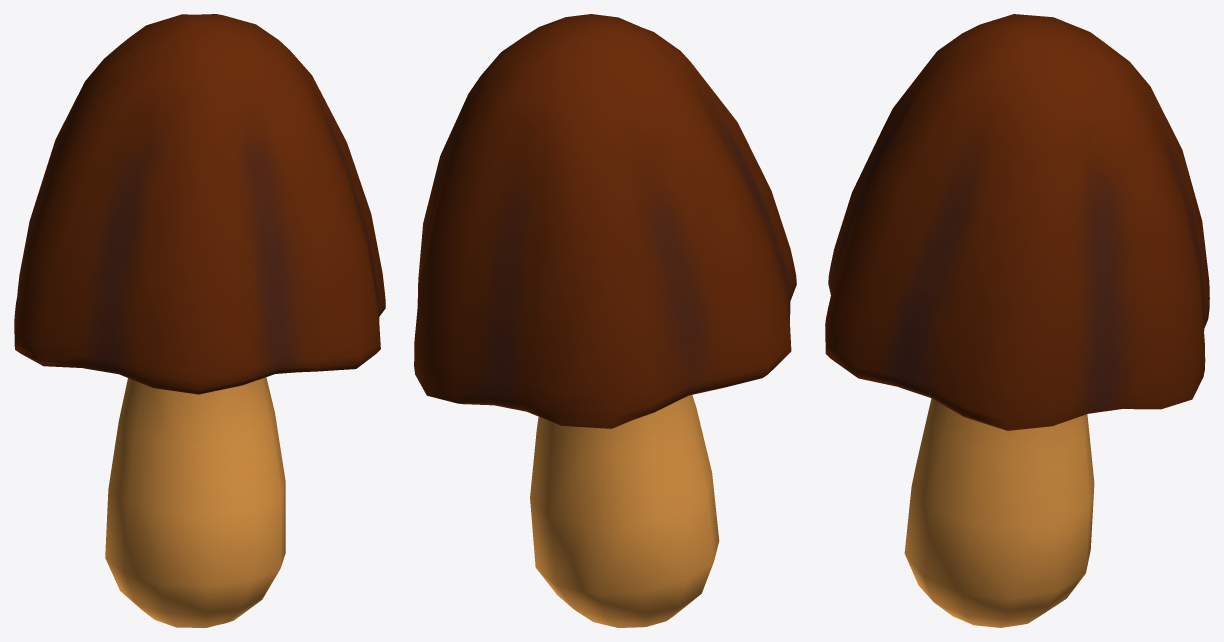
Rendered from mushroom3.glb.
The picture shows the model from 3 angles, left to right: view 1: azimuth 30°, elevation 25°; view 2: azimuth 150°, elevation 25°; view 3: azimuth 270°, elevation 25°; orthographic projection. The views are drawn at different scales.
Visible parts, largest first — view 1: MARSHROOM_UV_MARSHROOM_toB; view 2: MARSHROOM_UV_MARSHROOM_toB; view 3: MARSHROOM_UV_MARSHROOM_toB.
Boxes of the visible parts, x1,y1,x2,y2 form: MARSHROOM_UV_MARSHROOM_toB: (14,14,385,627); MARSHROOM_UV_MARSHROOM_toB: (414,14,796,627); MARSHROOM_UV_MARSHROOM_toB: (825,14,1209,627).
Size of the model in its own units: 0.5129 by 0.8285 by 0.4763.
Materials: 1 (1 with a texture image).
